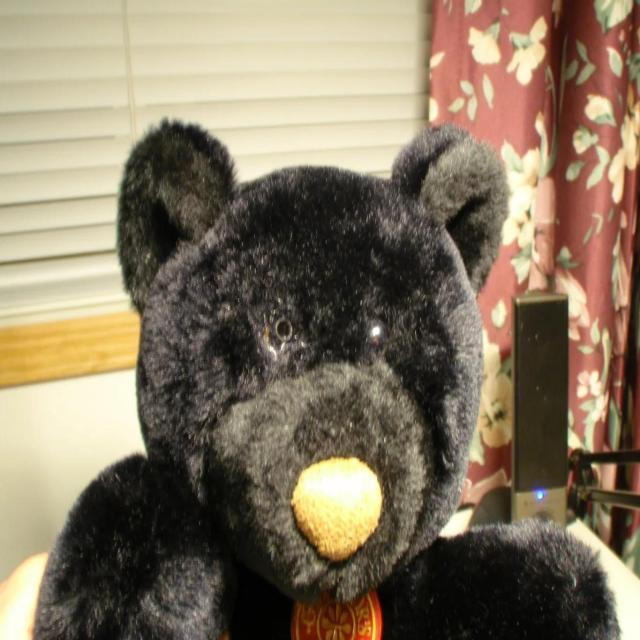hidden camera: (361, 306, 394, 352)
